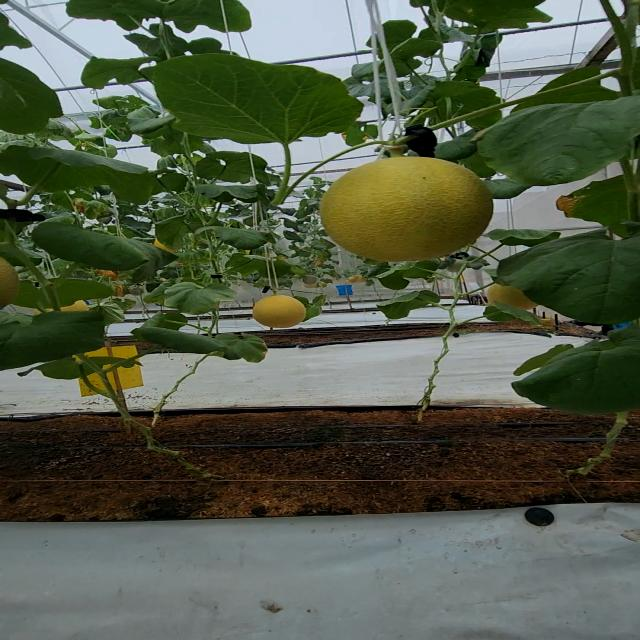Melon: (318, 153, 498, 266)
